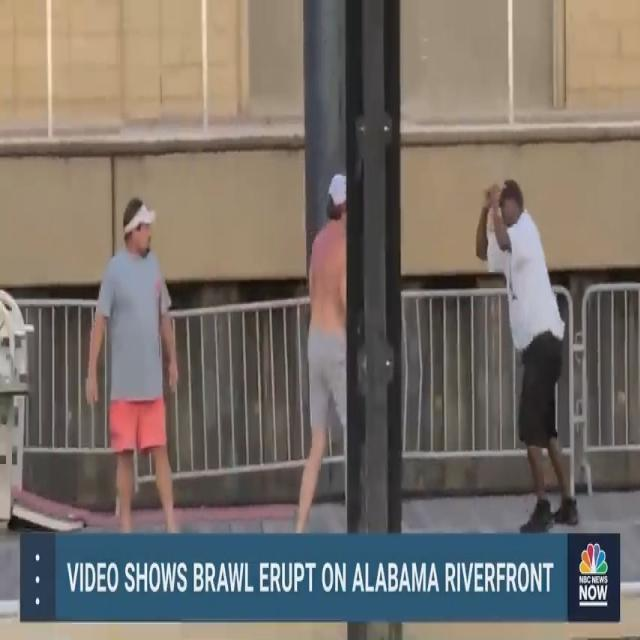non-fight: (463, 163, 602, 530), (286, 147, 401, 540), (84, 184, 190, 531)
